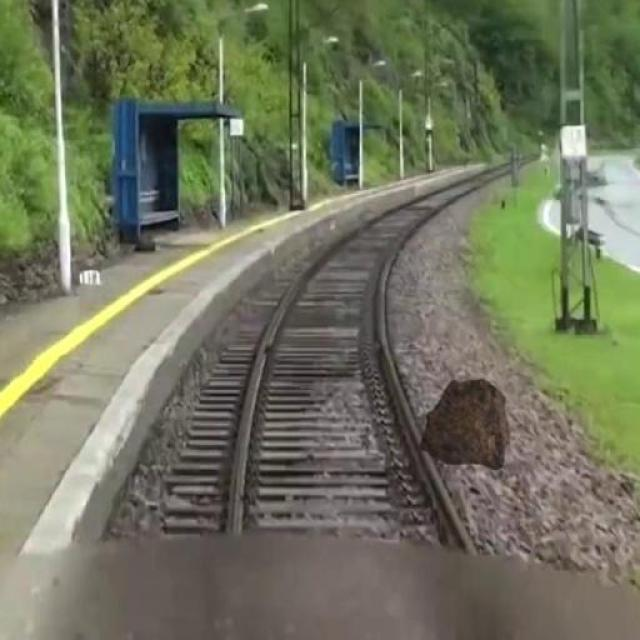Stone: (418, 371, 520, 476)
